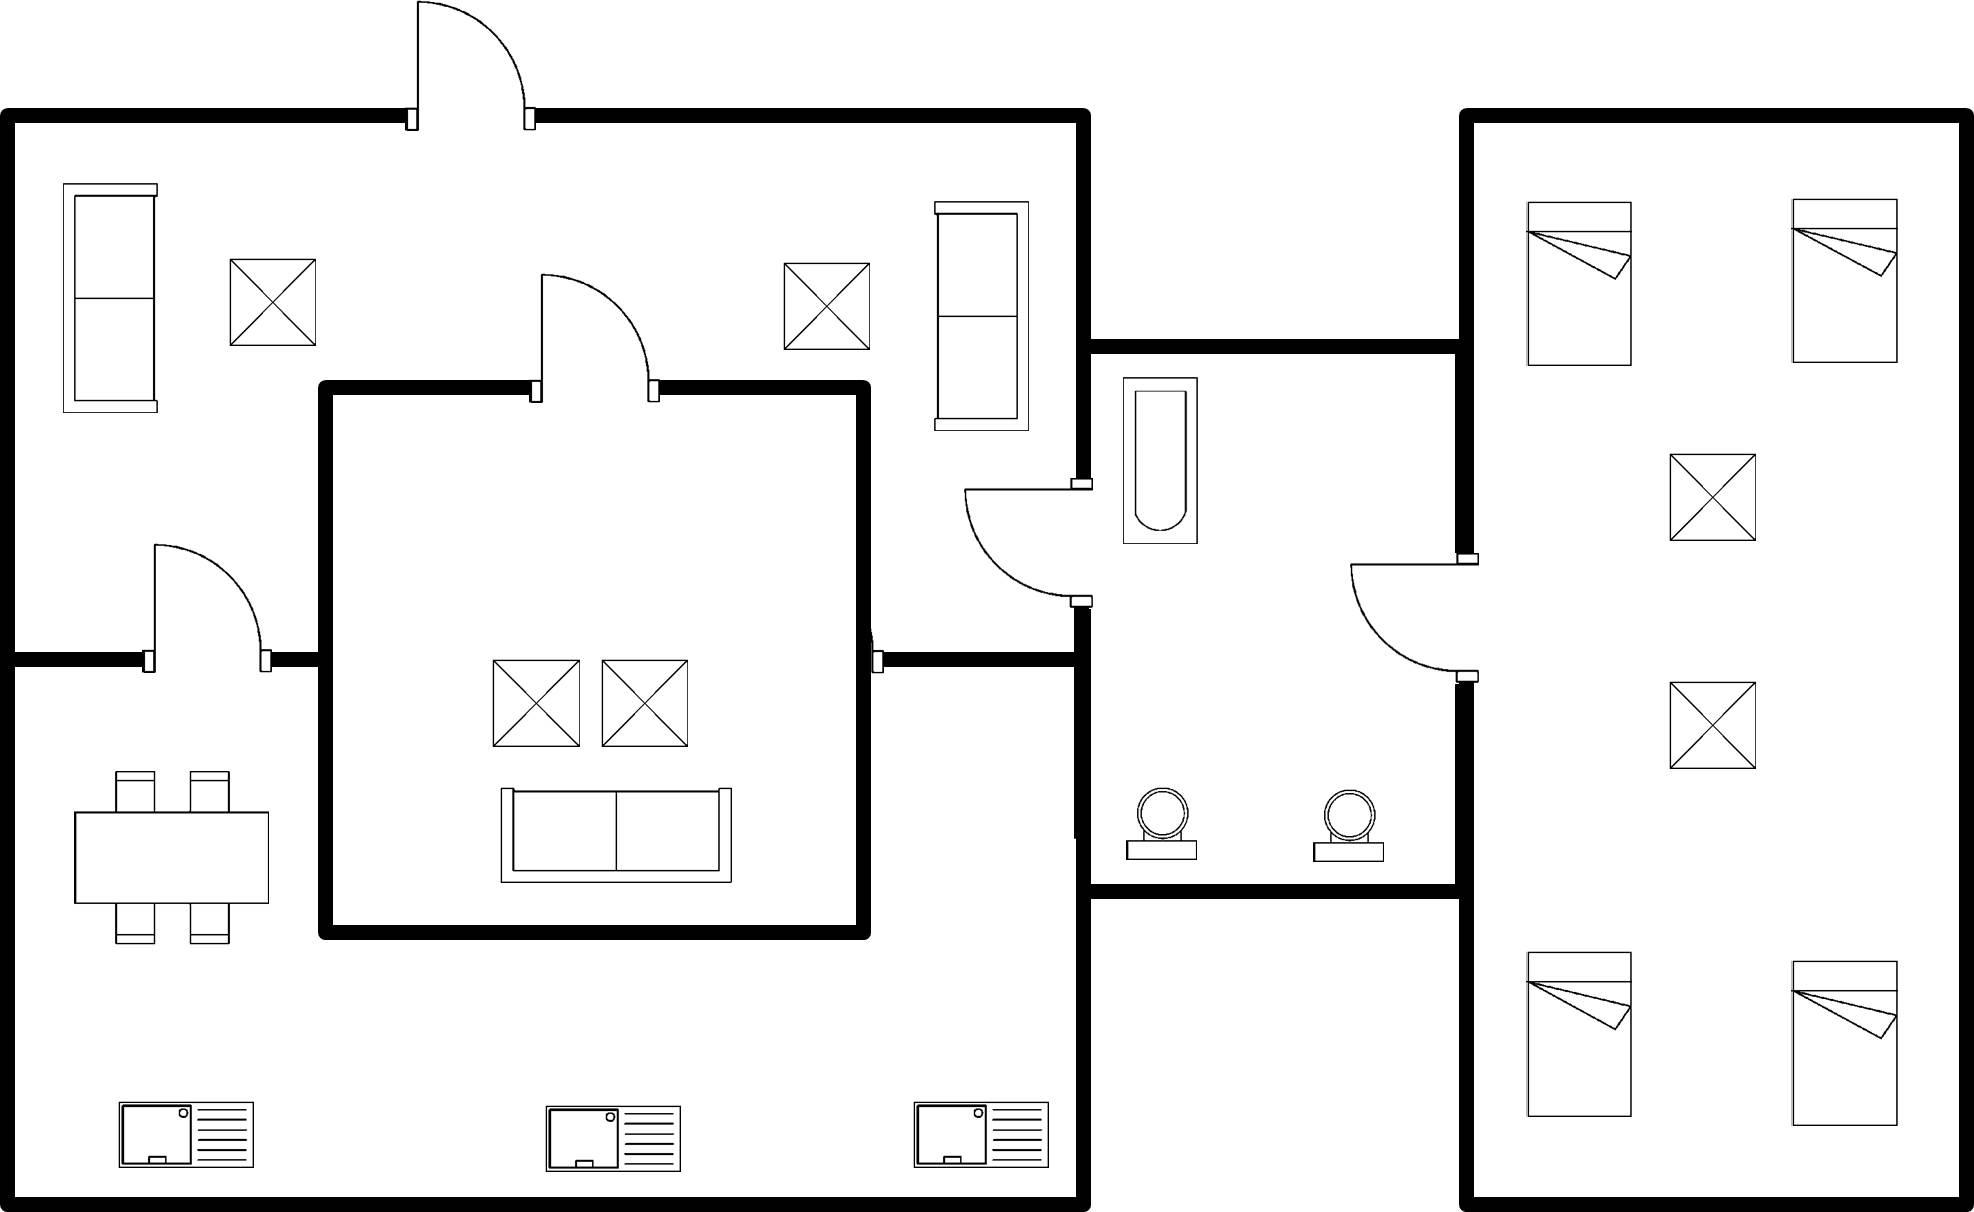bed: (1512, 943, 1645, 1132), (1779, 951, 1908, 1142), (1514, 189, 1641, 378), (1782, 186, 1905, 373)
dining_table: (63, 758, 275, 961)
sink: (534, 1091, 694, 1180), (109, 1092, 266, 1177), (904, 1092, 1059, 1177)
sofa: (486, 775, 747, 896), (924, 189, 1039, 440), (52, 171, 165, 426)
toilet: (1297, 778, 1390, 871), (1111, 778, 1206, 868)
tub: (1110, 366, 1208, 552)
